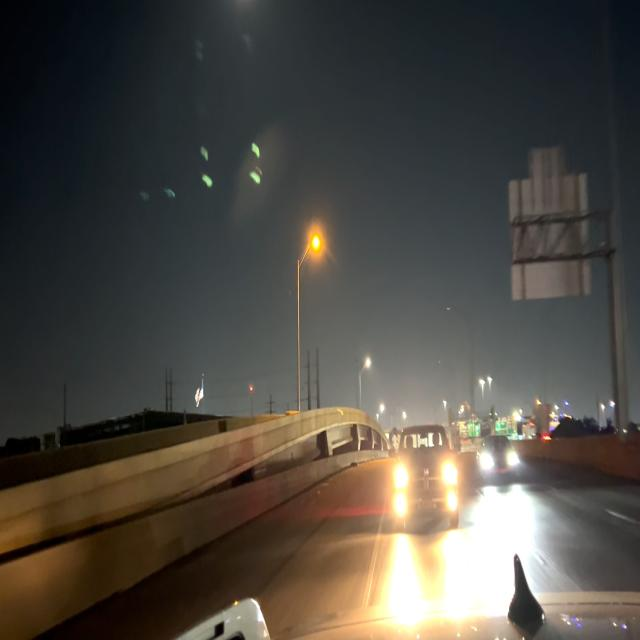back-of-sign: (509, 149, 593, 303)
